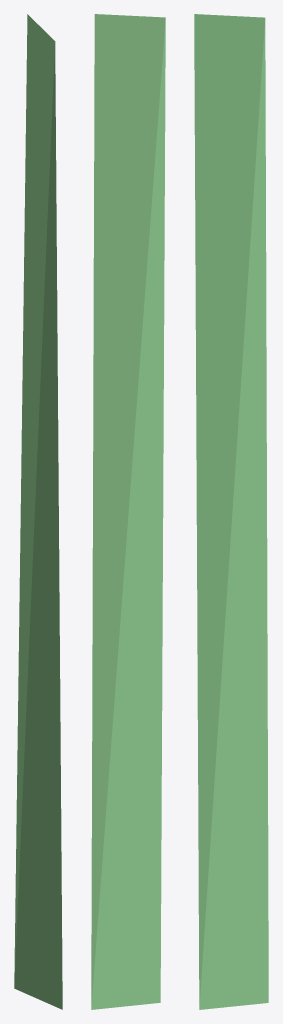
The model's file is palle_scrotali_buone_L2_respondable_PSM1_coll_15.dae.
3 views of the same model, side by side, from view 1: azimuth 90°, elevation 25°; view 2: azimuth 150°, elevation 25°; view 3: azimuth 330°, elevation 25° (orthographic).
Parts seen in each view (by area): view 1: Node_000002334E243BC0; view 2: Node_000002334E243BC0; view 3: Node_000002334E243BC0.
Boxes of the visible parts, x1,y1,x2,y2 form: Node_000002334E243BC0: [14, 14, 62, 1009]; Node_000002334E243BC0: [91, 14, 165, 1009]; Node_000002334E243BC0: [194, 14, 268, 1009].
Size of the model in its own units: 0.00493 by 0.082 by 0.0037.
